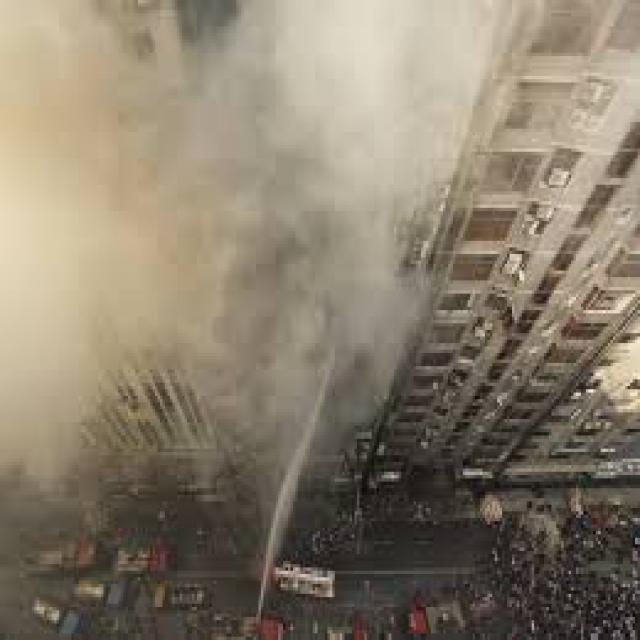Smoke: (14, 29, 465, 491)
